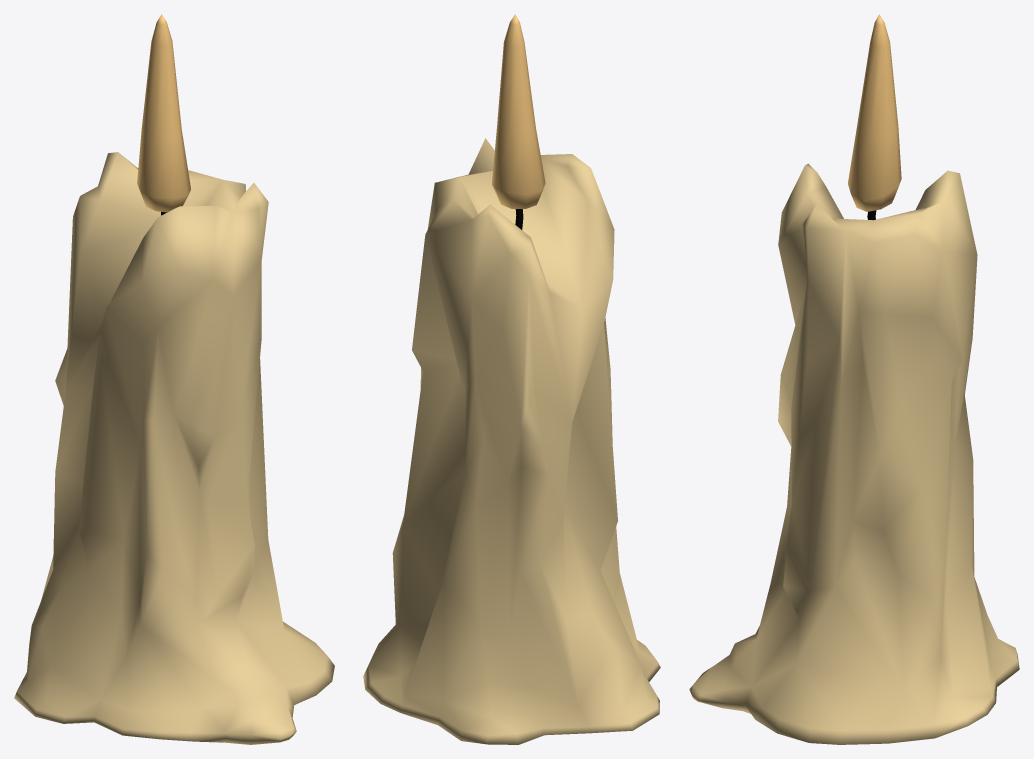
File: Candle.FBX
3 renders of one model, left to right at view 1: azimuth 30°, elevation 25°; view 2: azimuth 150°, elevation 25°; view 3: azimuth 270°, elevation 25°, orthographic.
Visible parts, largest first — view 1: Candle, CandleFlame; view 2: Candle, CandleFlame; view 3: Candle, CandleFlame.
Part boxes in pixels (bbox=[...]): Candle: bbox=[14, 152, 334, 744]; CandleFlame: bbox=[137, 14, 190, 212]; Candle: bbox=[363, 138, 660, 744]; CandleFlame: bbox=[492, 14, 545, 208]; Candle: bbox=[689, 163, 1019, 744]; CandleFlame: bbox=[848, 14, 901, 211].
Bounding box in the file's own units: 7.91 × 18.35 × 8.18.
